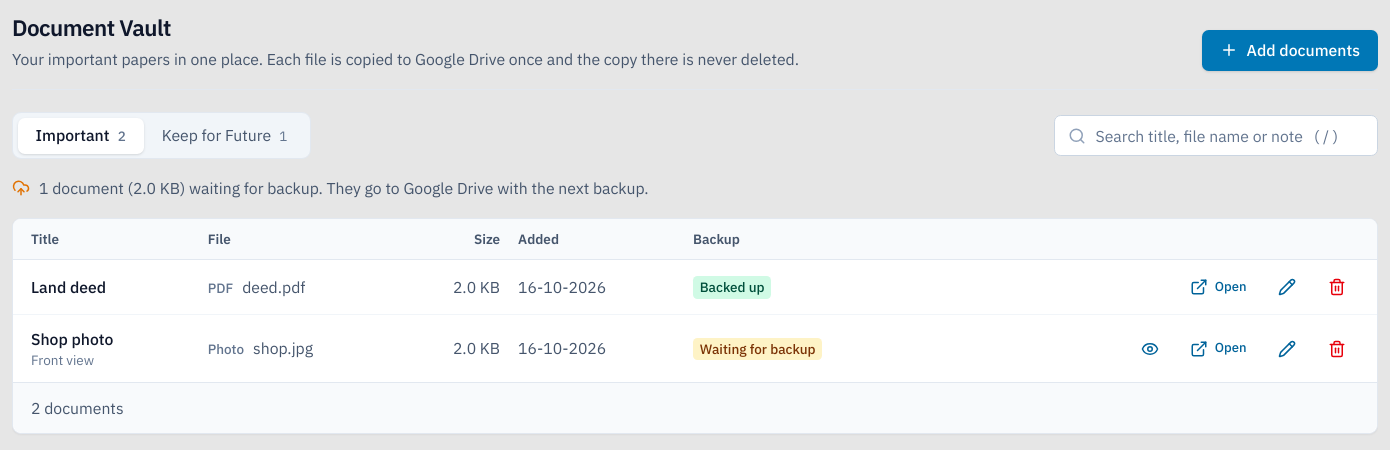
Test: Document Vault › switches to Keep for Future
Expected: the text "Land deed" is shown, [31,277,106,297]
What coordinates should you click on to do the following:
click the tab "Keep for Future 1"
I would click on:
 (225, 136)
Its box is [144,118,305,154].
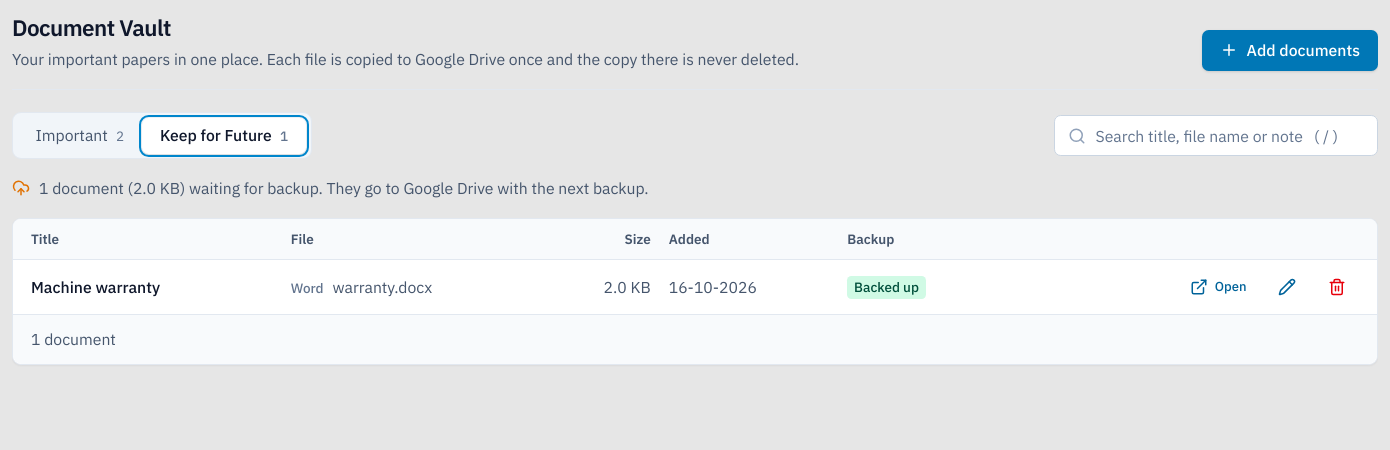
Expected: the text "Machine warranty" is shown, [31,277,160,297]
Expected: the text "Land deed" is gone
Expected: the text "Word" is shown, [291,279,324,297]
